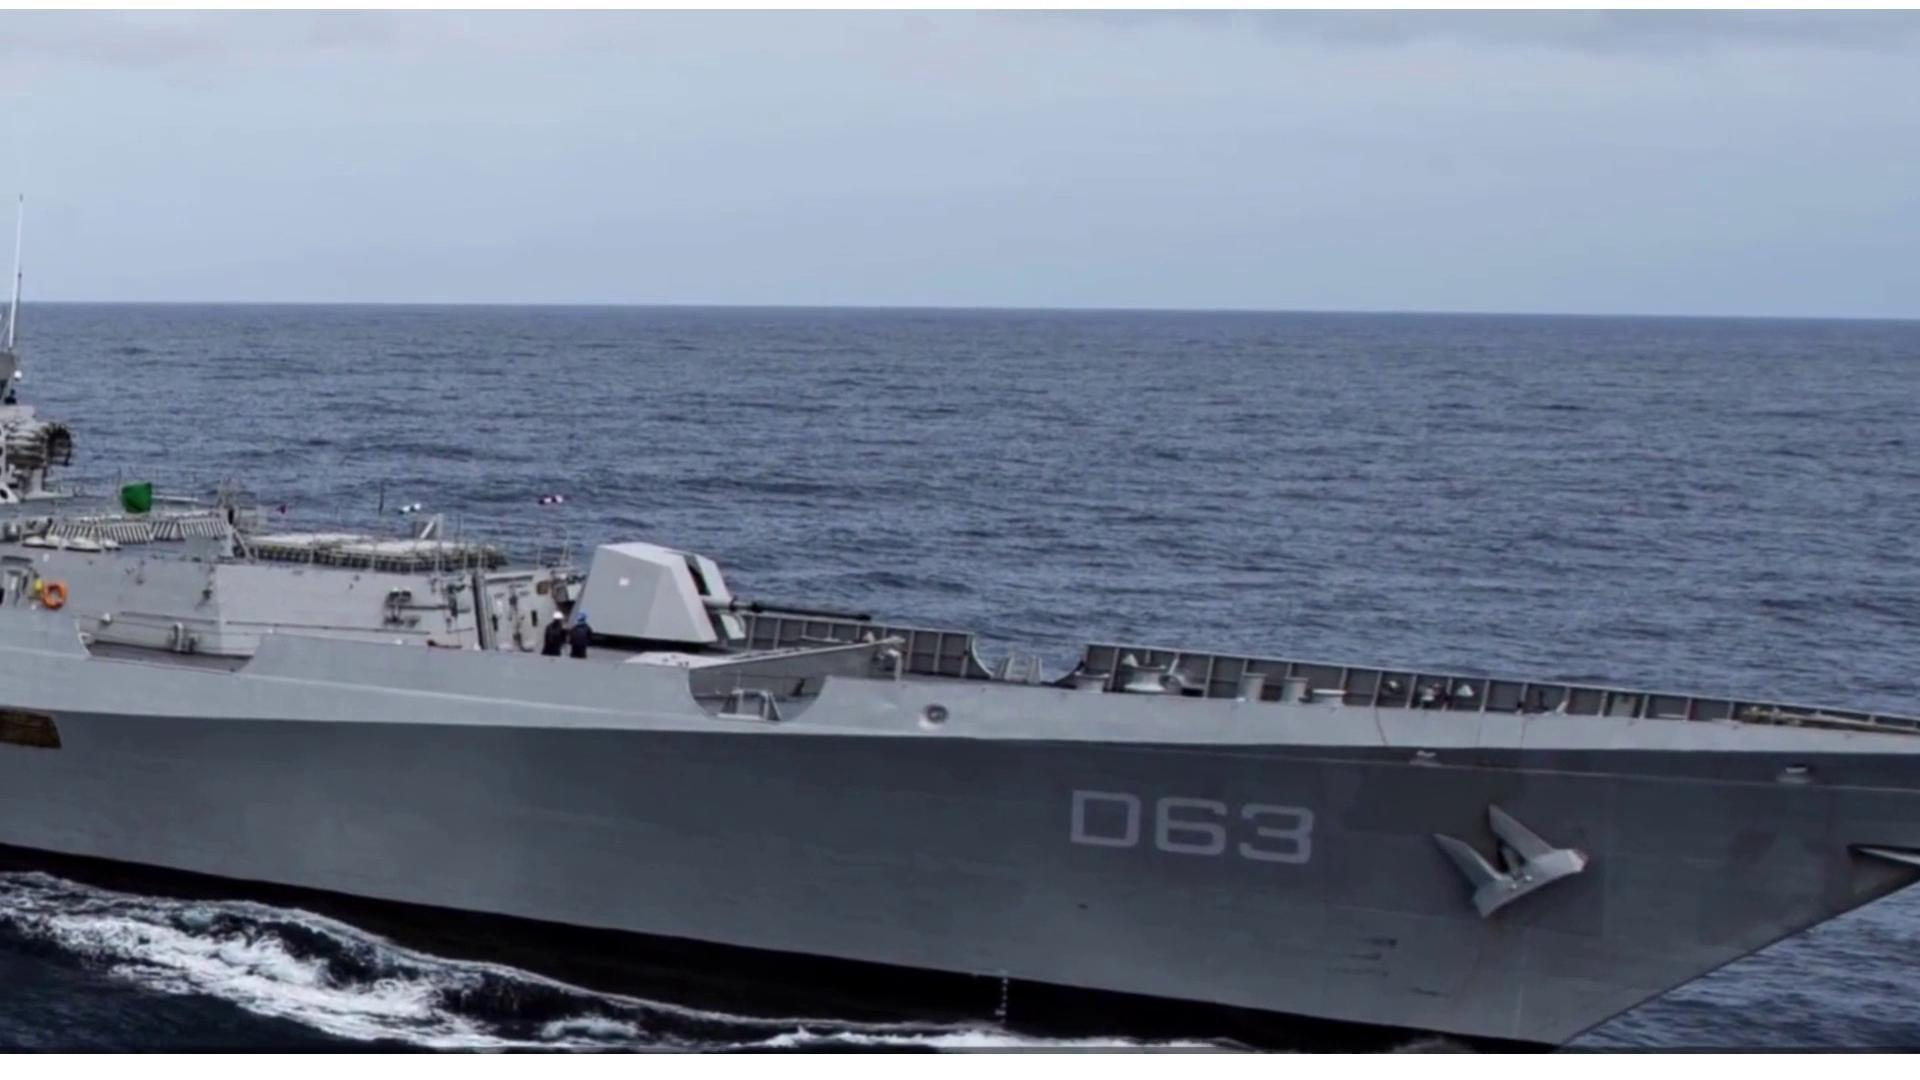OCR: (1056, 782, 1318, 874)
